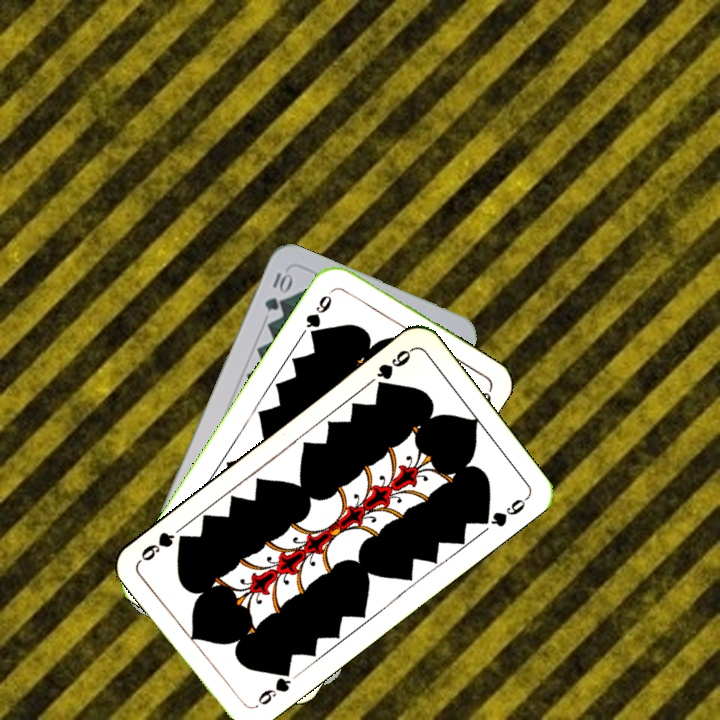G10: (260, 267, 294, 314)
G9: (372, 344, 416, 394), (250, 663, 294, 711), (301, 285, 338, 341)
